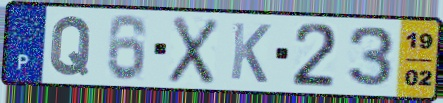2: (289, 21, 340, 90)
3: (345, 25, 399, 90)
6: (106, 12, 148, 83)
K: (227, 20, 273, 86)
Q: (47, 14, 95, 78)
X: (166, 14, 222, 86)
